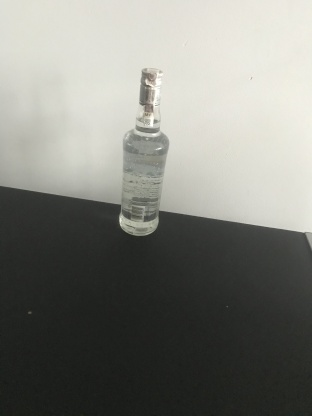nakretka: (137, 65, 164, 110)
